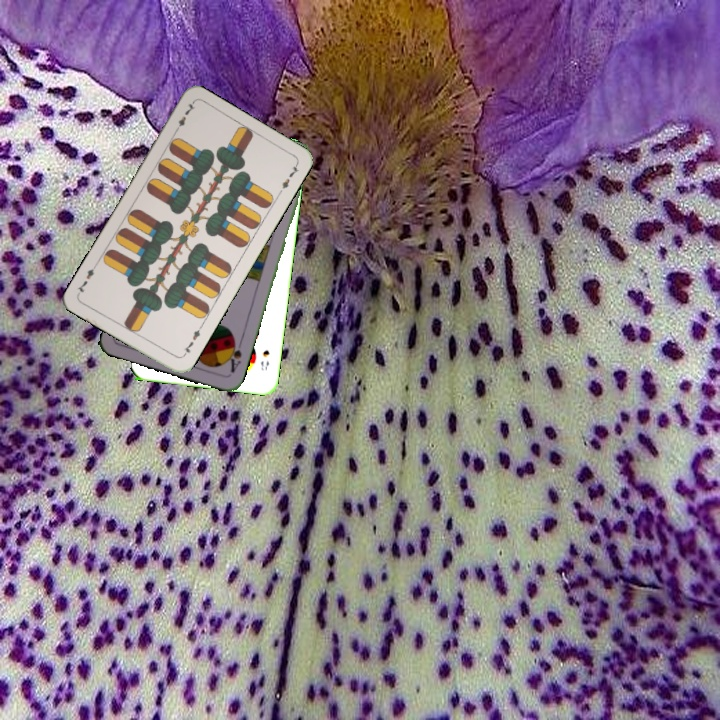E7: (170, 99, 198, 136), (178, 322, 204, 359)
S8: (257, 346, 272, 373)
SA: (223, 335, 245, 375)
